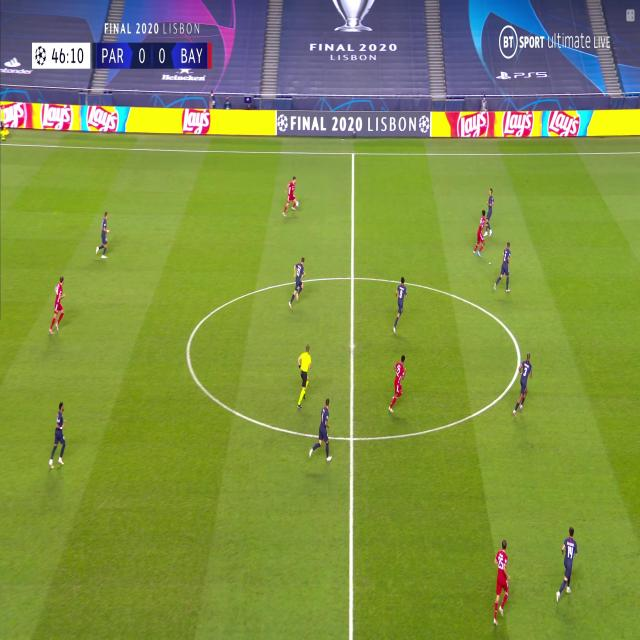player: (555, 525, 579, 602), (308, 396, 334, 464), (491, 538, 511, 622), (48, 400, 69, 468), (512, 352, 534, 415), (387, 354, 409, 412), (295, 342, 313, 407), (48, 274, 66, 334), (391, 276, 409, 334), (493, 240, 512, 292), (288, 256, 306, 307), (95, 210, 111, 260), (282, 174, 300, 218), (473, 208, 487, 258), (483, 185, 495, 235), (0, 104, 11, 141)
